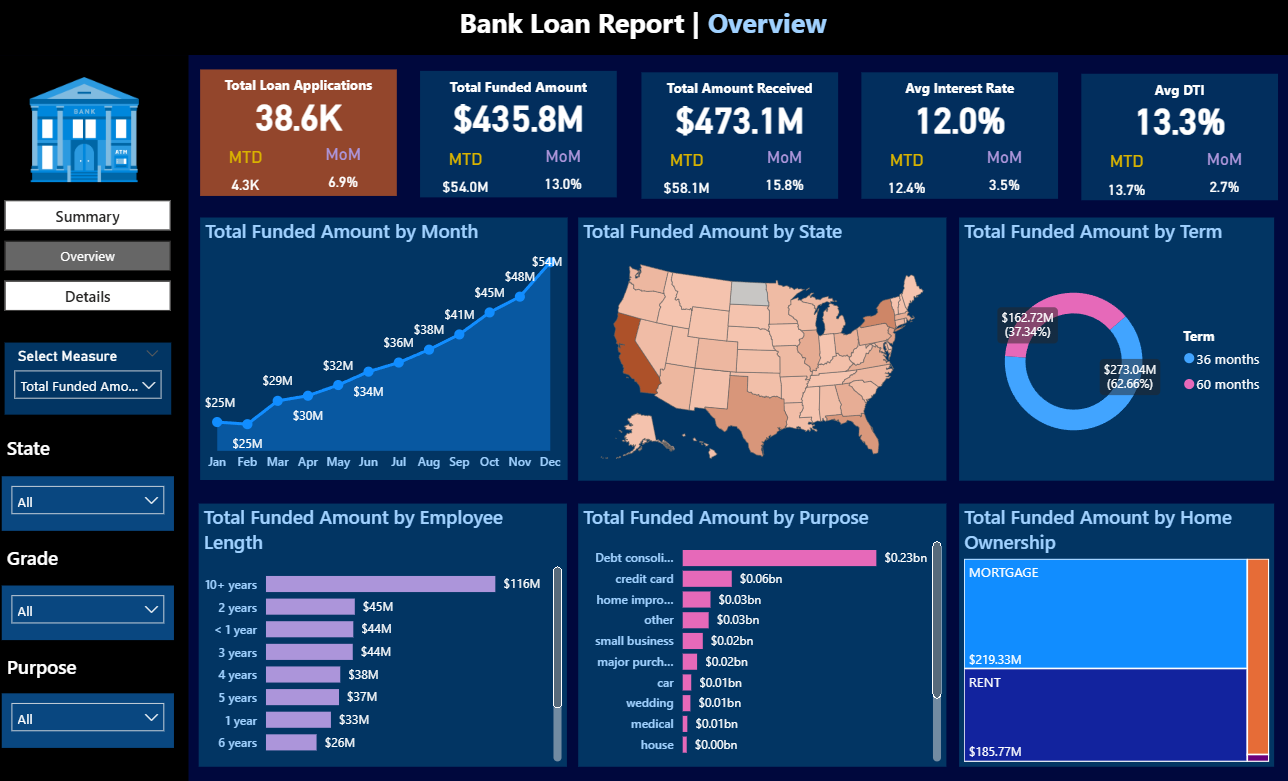

Layout of this report page (visuals, bound fields, positions):
{"tool":"powerbi","page":{"name":"Overview","canvas":[1287,780],"ordinal":1},"visuals":[{"type":"shape","box":[0,0,1287.1,55.7],"z":0},{"type":"shape","box":[0,55.7,191.4,724.3],"z":0,"group":"g8"},{"type":"shape","box":[202.9,70,195.7,125.7],"z":0,"group":"g4"},{"type":"shape","box":[421.8,71.4,195.7,125.7],"z":0,"group":"g2"},{"type":"shape","box":[640.7,72.9,195.7,125.7],"z":0,"group":"g3"},{"type":"shape","box":[859.6,72.9,195.7,125.7],"z":0,"group":"g5"},{"type":"shape","box":[1078.6,74.3,195.7,125.7],"z":0,"group":"g6"},{"type":"shape","box":[1050.2,509.7,164.1,220.6],"z":0,"group":"g7"},{"type":"textbox","box":[455.7,0,388.6,54.3],"z":1000},{"type":"card","fields":{"Values":["bank_loan_data.Total Loan Application"]},"box":[202.9,85.7,195.7,58.6],"z":1000,"group":"g4"},{"type":"card","fields":{"Values":["Date Table.Total Funded Amount"]},"box":[421.8,87.1,195.7,58.6],"z":1000,"group":"g2"},{"type":"card","fields":{"Values":["Date Table.Total Amount Received"]},"box":[640.7,88.6,195.7,58.6],"z":1000,"group":"g3"},{"type":"card","fields":{"Values":["Date Table.Avg Interest Rate"]},"box":[859.6,88.6,195.7,58.6],"z":1000,"group":"g5"},{"type":"card","fields":{"Values":["Date Table.Avg DTI"]},"box":[1078.6,90,195.7,58.6],"z":1000,"group":"g6"},{"type":"textbox","box":[5.7,645.7,97.1,44.3],"z":1000,"group":"g8"},{"type":"group","id":"g1","title":"Group 1","box":[202.9,70,195.7,135.7],"z":2000},{"type":"textbox","box":[202.9,71.4,195.7,28.6],"z":2000,"group":"g4"},{"type":"textbox","box":[421.8,72.8,195.7,28.6],"z":2000,"group":"g2"},{"type":"textbox","box":[640.7,74.3,195.7,28.6],"z":2000,"group":"g3"},{"type":"textbox","box":[859.6,74.3,195.7,28.6],"z":2000,"group":"g5"},{"type":"textbox","box":[1078.6,75.7,195.7,28.6],"z":2000,"group":"g6"},{"type":"slicer","fields":{"Values":["bank_loan_data.address_state"]},"box":[5.7,474.3,171.4,54.3],"z":2000,"group":"g8"},{"type":"group","id":"g2","title":"Group 2","box":[421.8,71.4,195.7,135.7],"z":3000},{"type":"card","title":"MTD","fields":{"Values":["Date Table.MTD Loan Applications"]},"box":[214.3,147.1,67.1,58.6],"z":3000,"group":"g4"},{"type":"card","title":"MTD","fields":{"Values":["Date Table.MTD Funded Amount"]},"box":[433.2,148.5,67.1,58.6],"z":3000,"group":"g2"},{"type":"card","title":"MTD","fields":{"Values":["Date Table.MTD Total Amount Recieved"]},"box":[652.1,150,67.1,58.6],"z":3000,"group":"g3"},{"type":"card","title":"MTD","fields":{"Values":["Date Table.MTD Avg Int Rate"]},"box":[871,150,67.1,58.6],"z":3000,"group":"g5"},{"type":"card","title":"MTD","fields":{"Values":["Date Table.MTD Avg DTI"]},"box":[1090,151.4,67.1,58.6],"z":3000,"group":"g6"},{"type":"slicer","fields":{"Values":["bank_loan_data.grade"]},"box":[5.7,582.8,171.4,54.3],"z":3000,"group":"g8"},{"type":"group","id":"g3","title":"Group 2","box":[640.7,72.9,195.7,135.7],"z":4000},{"type":"card","title":"MoM","fields":{"Values":["Date Table.MoM Loan Application"]},"box":[311.5,144.3,67.1,58.6],"z":4000,"group":"g4"},{"type":"card","title":"MoM","fields":{"Values":["Date Table.MoM Total Funded Amount"]},"box":[530.4,145.7,67.1,58.6],"z":4000,"group":"g2"},{"type":"card","title":"MoM","fields":{"Values":["Date Table.MoM Total Amount Recieved"]},"box":[749.3,147.2,67.1,58.6],"z":4000,"group":"g3"},{"type":"card","title":"MoM","fields":{"Values":["Date Table.MoM Avg Int Rate"]},"box":[968.2,147.2,67.1,58.6],"z":4000,"group":"g5"},{"type":"card","title":"MoM","fields":{"Values":["Date Table.MoM Avg DTI"]},"box":[1187.2,148.6,67.1,58.6],"z":4000,"group":"g6"},{"type":"textbox","box":[5.7,428.6,97.1,45.7],"z":4000,"group":"g8"},{"type":"group","id":"g4","title":"Group 2","box":[202.9,70,195.7,135.7],"z":4005,"group":"g1"},{"type":"group","id":"g5","title":"Group 2","box":[859.6,72.9,195.7,135.7],"z":5000},{"type":"slicer","fields":{"Values":["bank_loan_data.purpose"]},"box":[5.7,690,171.4,54.3],"z":5000,"group":"g8"},{"type":"group","id":"g6","title":"Group 2","box":[1078.6,74.3,194.3,134.3],"z":6000},{"type":"textbox","box":[5.7,537.1,85.7,45.7],"z":6000,"group":"g8"},{"type":"image","box":[28.6,70,118.6,120],"z":7000,"group":"g8"},{"type":"areaChart","fields":{"Y":["Date Table.Total Funded Amount"],"Category":["Date Table.Month"]},"box":[202.9,217.1,365,261],"z":7000},{"type":"pageNavigator","box":[8.6,200.4,165.7,110],"z":8000,"group":"g8"},{"type":"shapeMap","fields":{"Value":["Date Table.Total Funded Amount"],"Category":["bank_loan_data.address_state"]},"box":[578.6,217.1,365.7,261.4],"z":8000},{"type":"donutChart","fields":{"Y":["Date Table.Total Funded Amount"],"Category":["bank_loan_data.term"]},"box":[957.1,217.1,312.9,261.4],"z":9000},{"type":"clusteredBarChart","fields":{"Y":["Date Table.Total Funded Amount"],"Category":["bank_loan_data.emp_length"]},"box":[201.4,501.4,365.7,261.4],"z":10000},{"type":"clusteredBarChart","fields":{"Y":["Date Table.Total Funded Amount"],"Category":["bank_loan_data.purpose"]},"box":[578.6,501.4,365.7,261.4],"z":11000},{"type":"group","id":"g7","title":"Group 3","box":[957.1,501.4,312.9,261.4],"z":12000},{"type":"group","id":"g8","title":"Group 5","box":[0,55.7,191.4,724.3],"z":13000},{"type":"slicer","fields":{"Values":["Select Measure.Select Measure"]},"box":[8.6,341.4,165.7,71.4],"z":14000},{"type":"treemap","fields":{"Values":["Date Table.Total Funded Amount"],"Group":["bank_loan_data.home_ownership"]},"box":[957.1,501.4,312.9,261.4],"z":21006,"group":"g7"}]}

Visuals, with their boxes in screenshot pixels (x1, y1, x2, y2), scaled from the page's 1287x780 canvas onto the 1288x781 screenshot:
shape: 0,0,1287,56
shape: 0,56,192,780
shape: 203,70,399,196
shape: 422,71,618,197
shape: 641,73,837,199
shape: 860,73,1056,199
shape: 1079,74,1275,200
shape: 1051,510,1215,731
textbox: 456,0,845,54
card - bank_loan_data.Total Loan Application: 203,86,399,144
card - Date Table.Total Funded Amount: 422,87,618,146
card - Date Table.Total Amount Received: 641,89,837,147
card - Date Table.Avg Interest Rate: 860,89,1056,147
card - Date Table.Avg DTI: 1079,90,1275,149
textbox: 6,647,103,691
"Group 1" group: 203,70,399,206
textbox: 203,71,399,100
textbox: 422,73,618,102
textbox: 641,74,837,103
textbox: 860,74,1056,103
textbox: 1079,76,1275,104
slicer - bank_loan_data.address_state: 6,475,177,529
"Group 2" group: 422,71,618,207
"MTD" card: 214,147,282,206
"MTD" card: 434,149,501,207
"MTD" card: 653,150,720,209
"MTD" card: 872,150,939,209
"MTD" card: 1091,152,1158,210
slicer - bank_loan_data.grade: 6,584,177,638
"Group 2" group: 641,73,837,209
"MoM" card: 312,144,379,203
"MoM" card: 531,146,598,205
"MoM" card: 750,147,817,206
"MoM" card: 969,147,1036,206
"MoM" card: 1188,149,1255,207
textbox: 6,429,103,475
"Group 2" group: 203,70,399,206
"Group 2" group: 860,73,1056,209
slicer - bank_loan_data.purpose: 6,691,177,745
"Group 2" group: 1079,74,1274,209
textbox: 6,538,91,584
image: 29,70,147,190
areaChart - Date Table.Total Funded Amount x Date Table.Month: 203,217,568,479
pageNavigator: 9,201,174,311
shapeMap - Date Table.Total Funded Amount x bank_loan_data.address_state: 579,217,945,479
donutChart - Date Table.Total Funded Amount x bank_loan_data.term: 958,217,1271,479
clusteredBarChart - Date Table.Total Funded Amount x bank_loan_data.emp_length: 202,502,568,764
clusteredBarChart - Date Table.Total Funded Amount x bank_loan_data.purpose: 579,502,945,764
"Group 3" group: 958,502,1271,764
"Group 5" group: 0,56,192,780
slicer - Select Measure.Select Measure: 9,342,174,413
treemap - Date Table.Total Funded Amount x bank_loan_data.home_ownership: 958,502,1271,764
